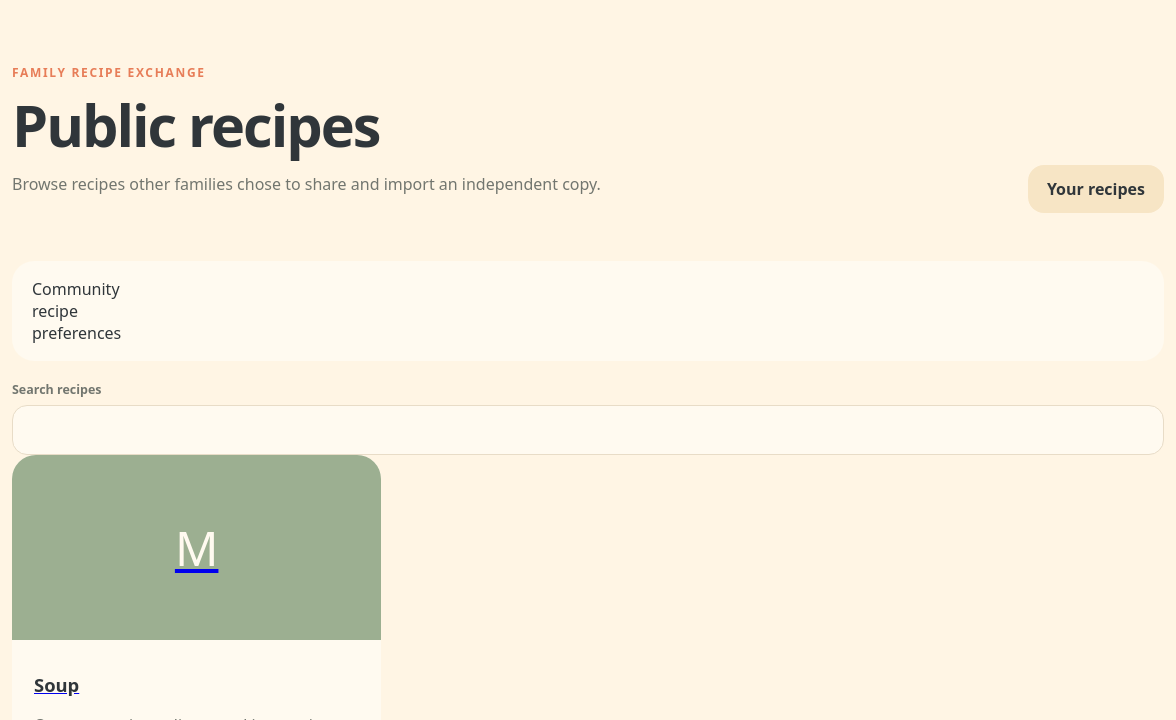
it: lets viewers filter and preserves the list after a failed save
Expected: the heading "Soup" is shown, [34, 672, 79, 697]
Click the heading "Community recipe preferences": (77,311) [32, 278, 121, 344]
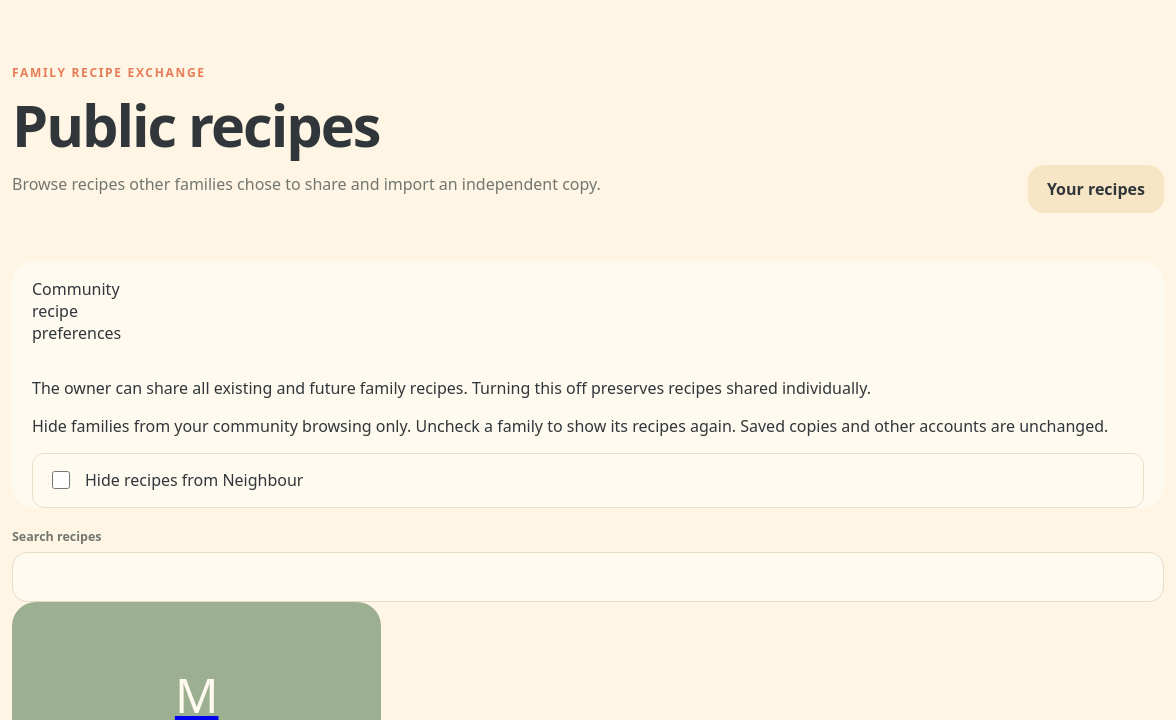
Click the checkbox labelled "Hide recipes from Neighbour": (61,480) [52, 471, 70, 489]
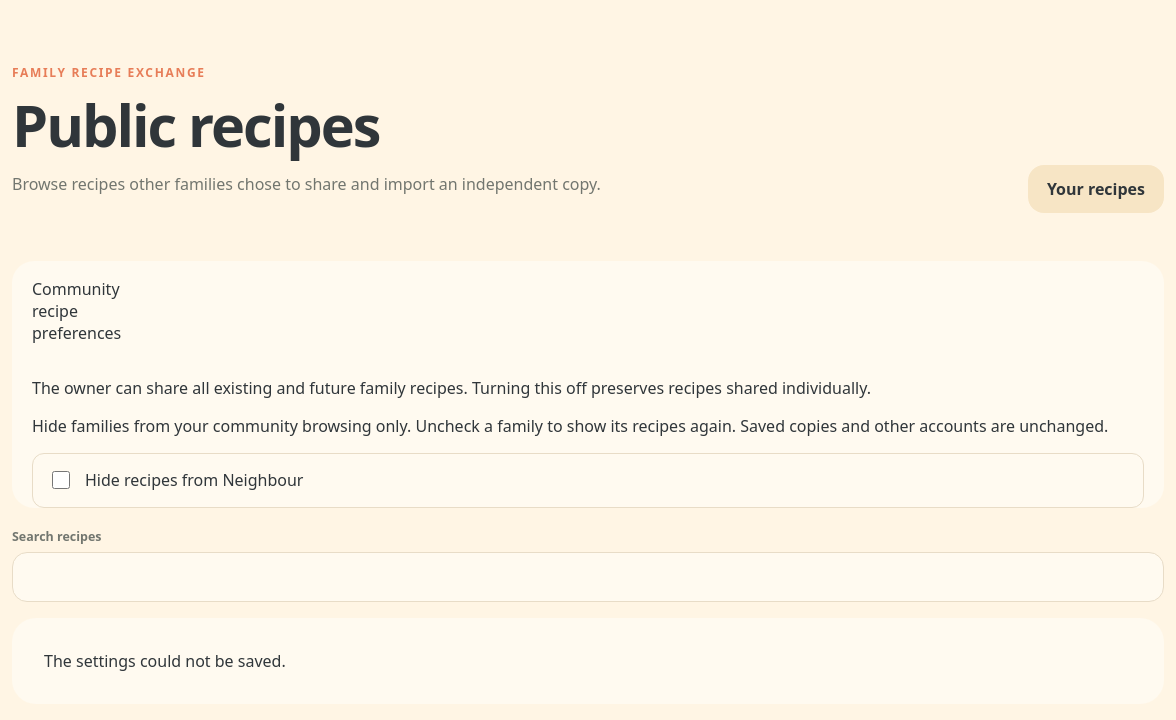
Result: the checkbox labelled "Hide recipes from Neighbour" is not checked at [52, 471, 70, 489]
Result: the text "The settings could not be saved." is shown at [12, 618, 1164, 704]
